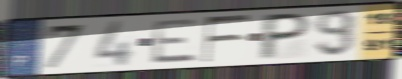4: (92, 19, 136, 68)
7: (42, 24, 89, 70)
9: (314, 8, 360, 58)
E: (149, 17, 200, 65)
F: (202, 13, 253, 65)
P: (256, 11, 314, 62)
